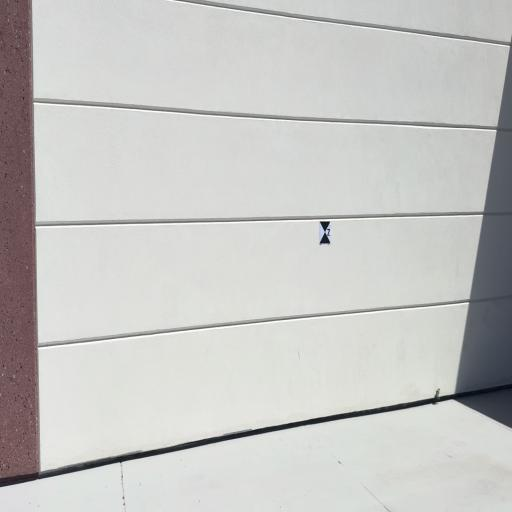target7: (319, 221, 331, 244)
